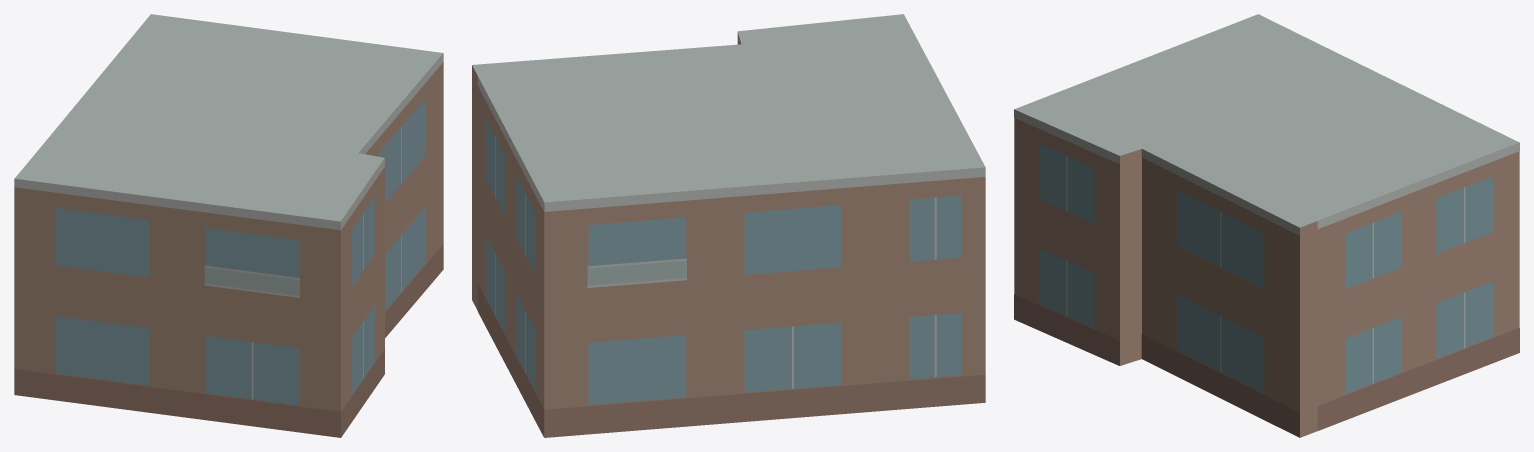
The model's file is survey-upis-32994453.glb.
The picture shows the model from 3 angles, left to right: view 1: azimuth 30°, elevation 25°; view 2: azimuth 150°, elevation 25°; view 3: azimuth 270°, elevation 25°; orthographic projection. The views are drawn at different scales.
Visible parts, largest first — view 1: survey-upis-32994453.tmp; view 2: survey-upis-32994453.tmp; view 3: survey-upis-32994453.tmp.
Boxes of the visible parts, x1,y1,x2,y2 form: survey-upis-32994453.tmp: (14,14,443,437); survey-upis-32994453.tmp: (472,14,985,437); survey-upis-32994453.tmp: (1014,14,1519,437).
Size of the model in its own units: 13.31 by 6.1 by 13.31.
